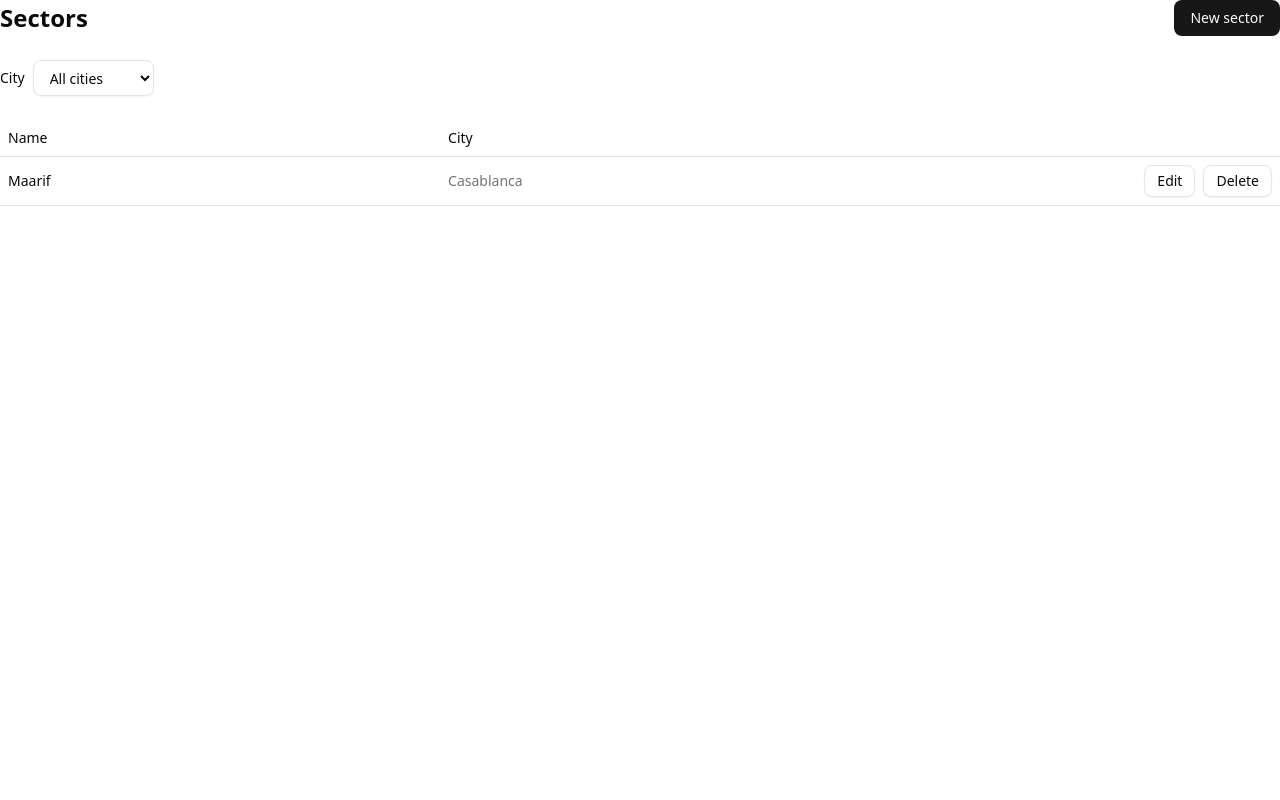
Scenario: create / edit / delete › surfaces a failed delete without closing the confirmation
Click the button with aria-label "delete maarif".
click(1238, 181)  # box [1203,165,1272,197]
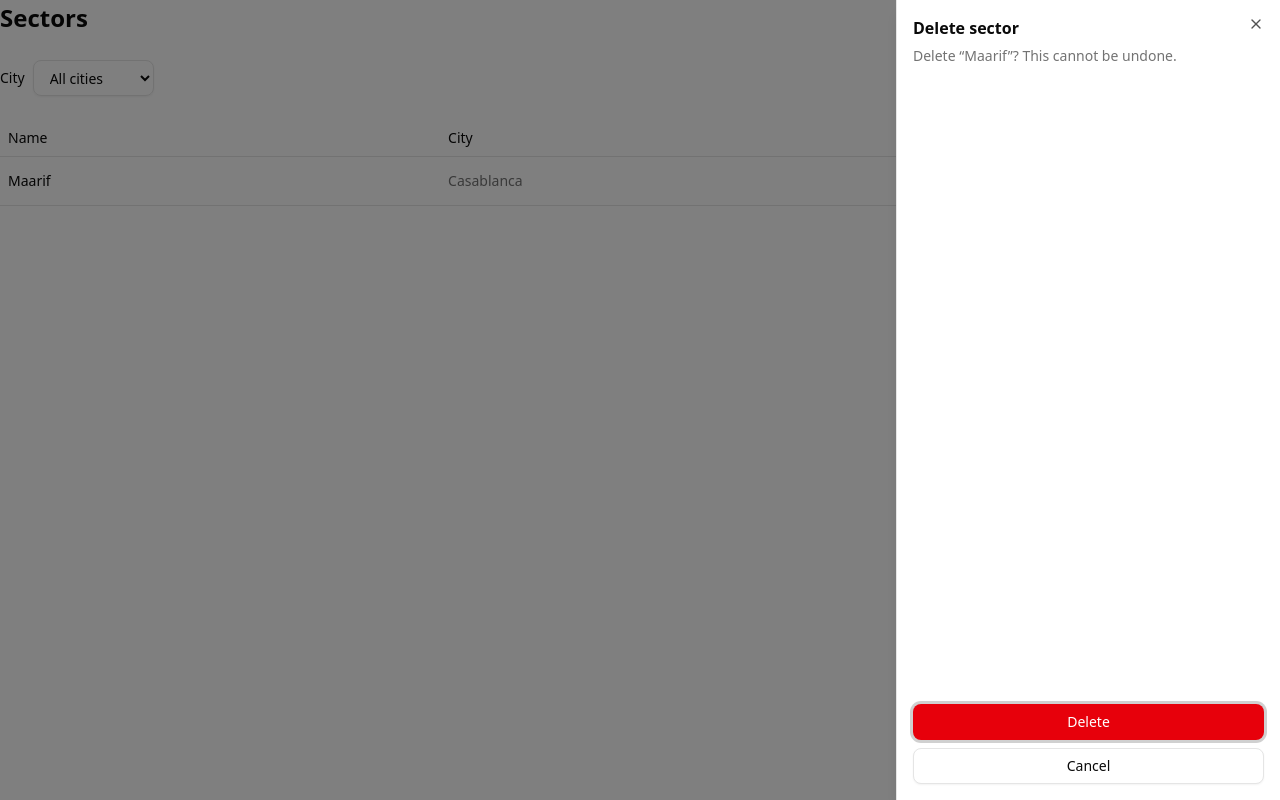
Click the button "Delete".
click(1088, 722)  # box [913,704,1264,740]
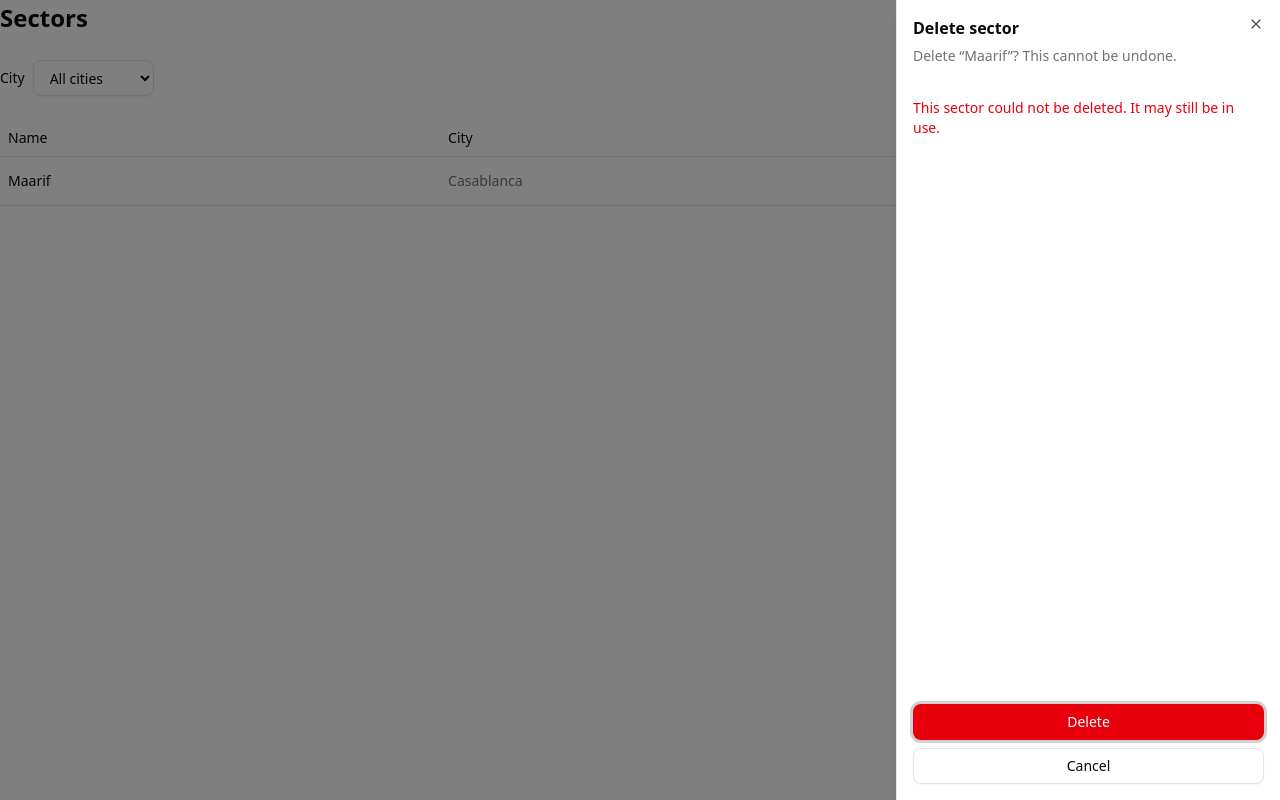
Expected: the message shows "could not be deleted", [913,98,1234,137]
